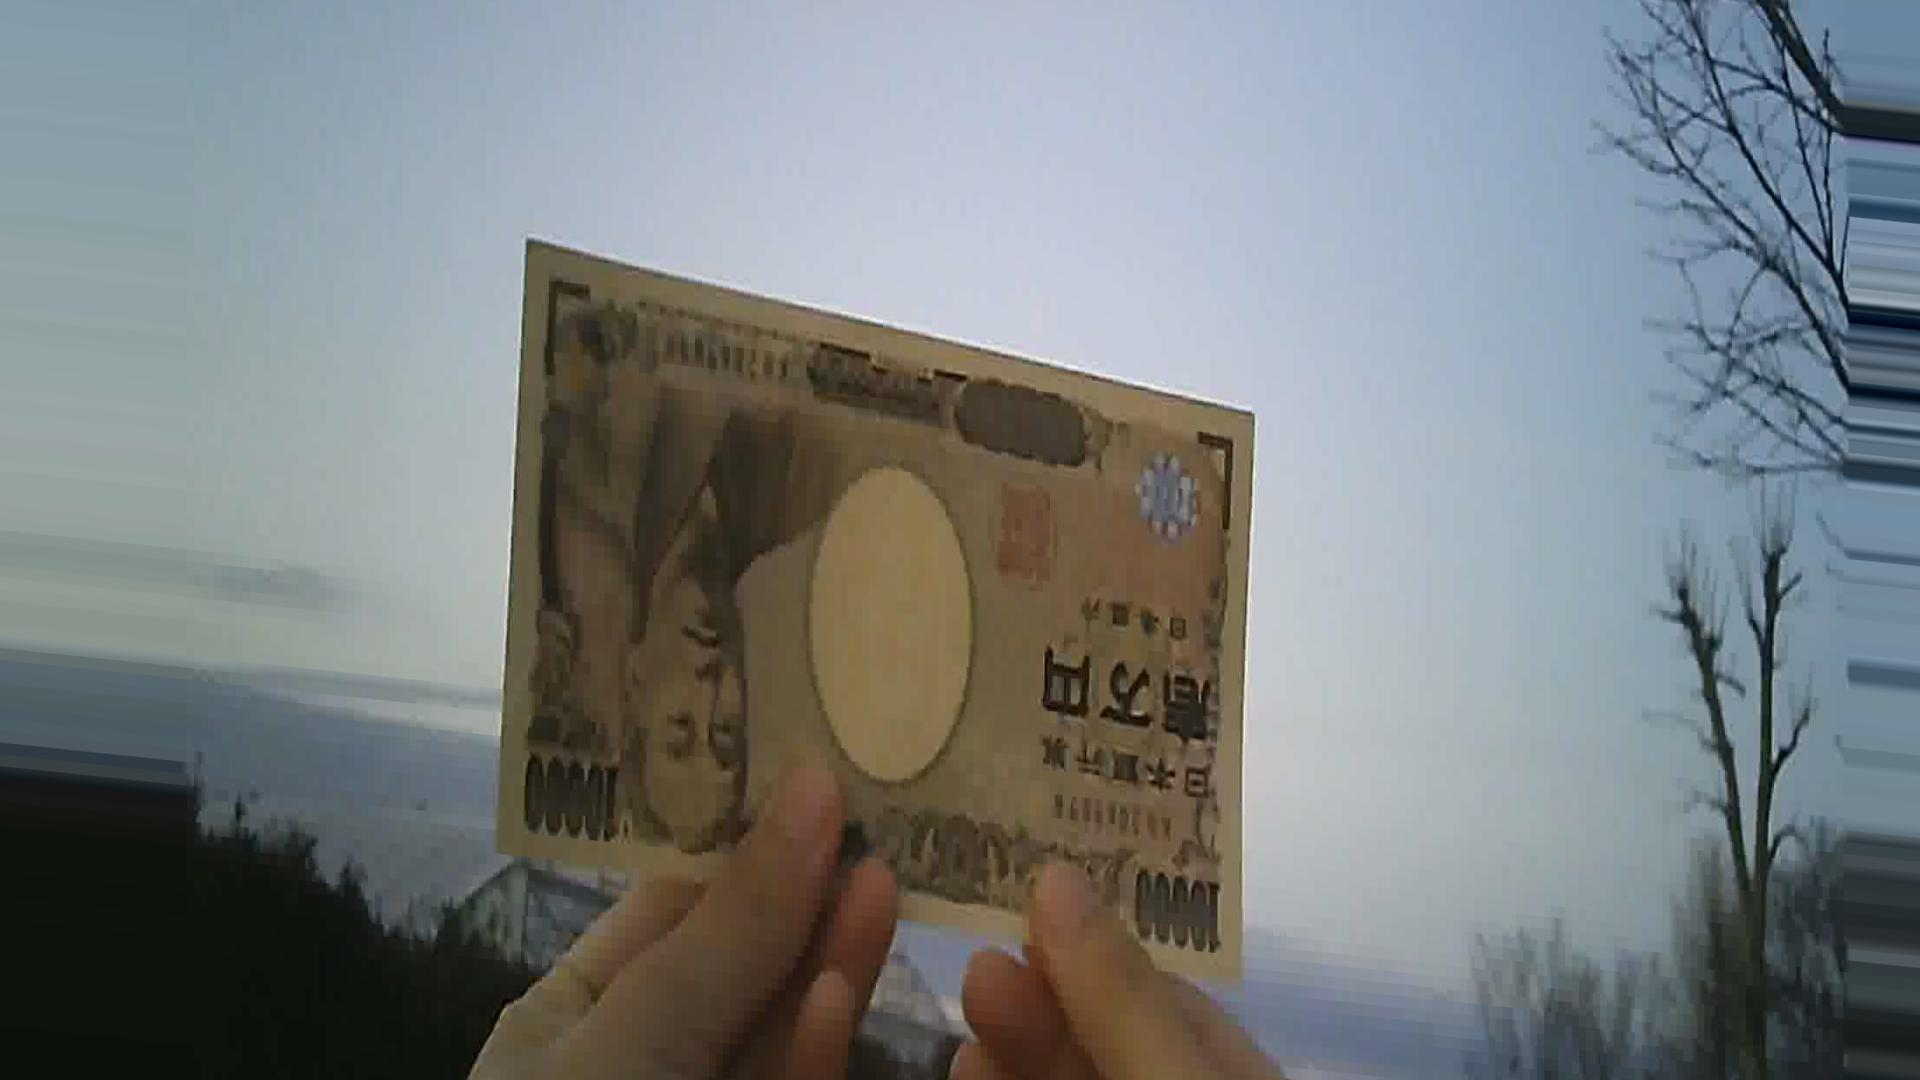10,000 Yen: (487, 196, 1283, 998)
